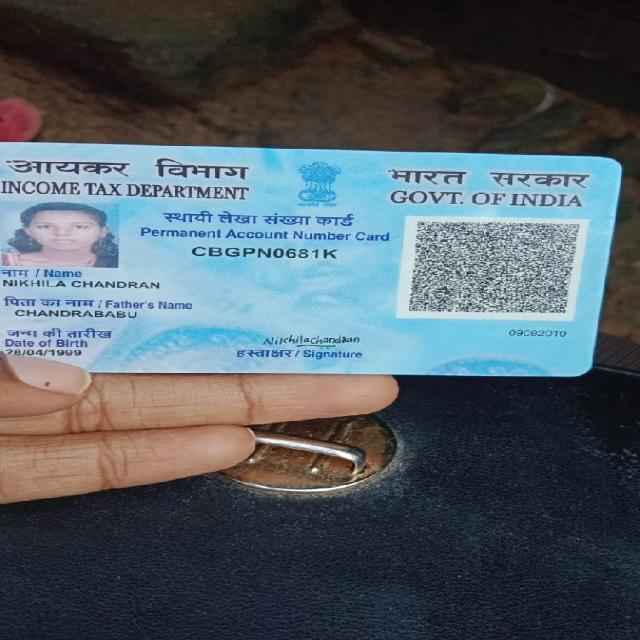pan_card: (0, 142, 619, 376)
